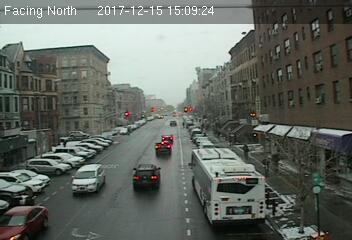bus: (190, 148, 269, 226)
car: (1, 204, 50, 240), (70, 164, 105, 193), (132, 164, 162, 190), (155, 141, 171, 156), (161, 134, 172, 140)
